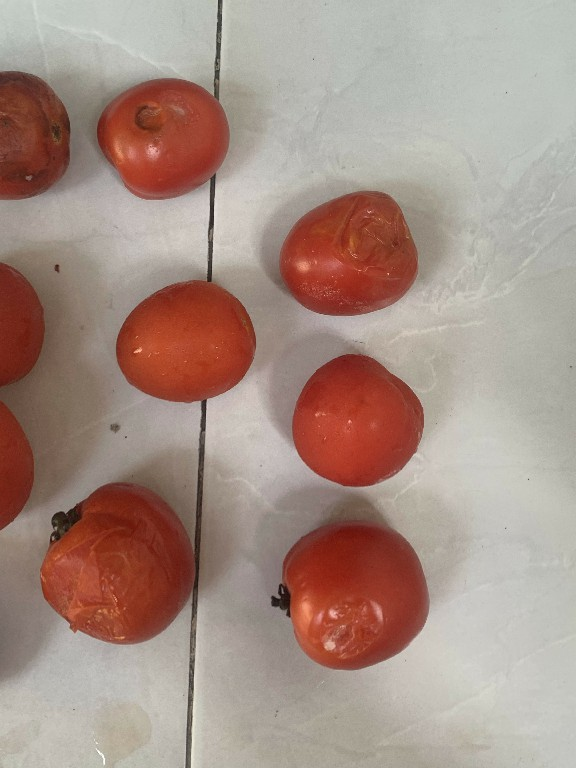NG: (273, 503, 446, 672), (26, 474, 195, 641), (270, 176, 429, 318), (91, 67, 244, 205), (0, 58, 81, 202)
OK: (286, 343, 436, 487), (106, 271, 262, 395)
